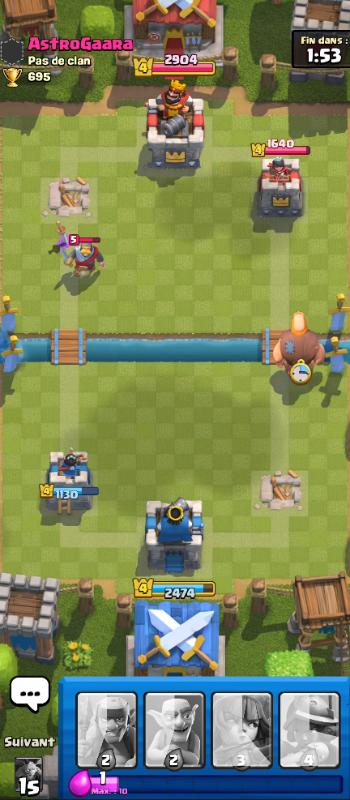chevalier: (59, 237, 108, 281)
geant: (273, 310, 327, 388)
